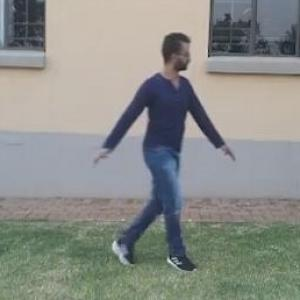land: (96, 46, 238, 232)
